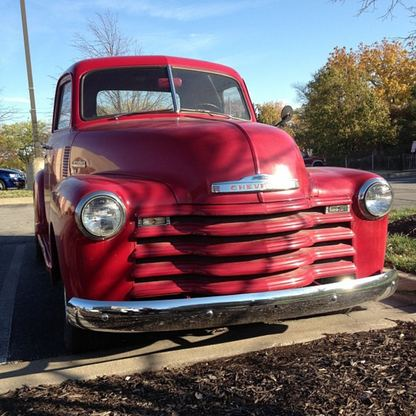car: (0, 168, 26, 190)
truck: (32, 55, 399, 354)
